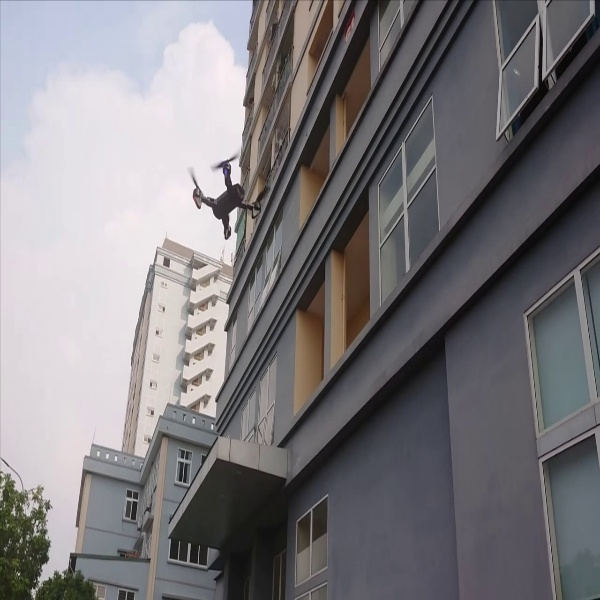drone: (175, 145, 275, 244)
